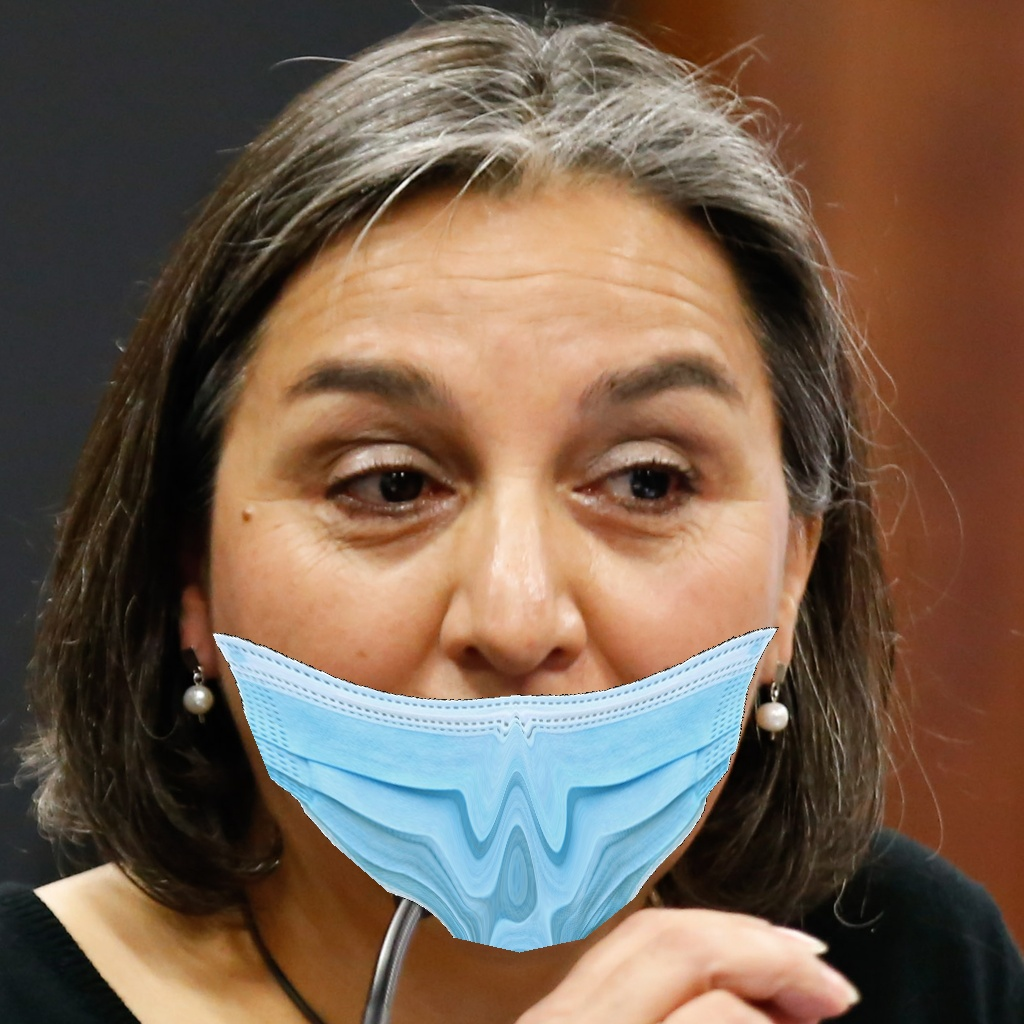mask_weared_incorrect: (275, 347, 746, 953)
